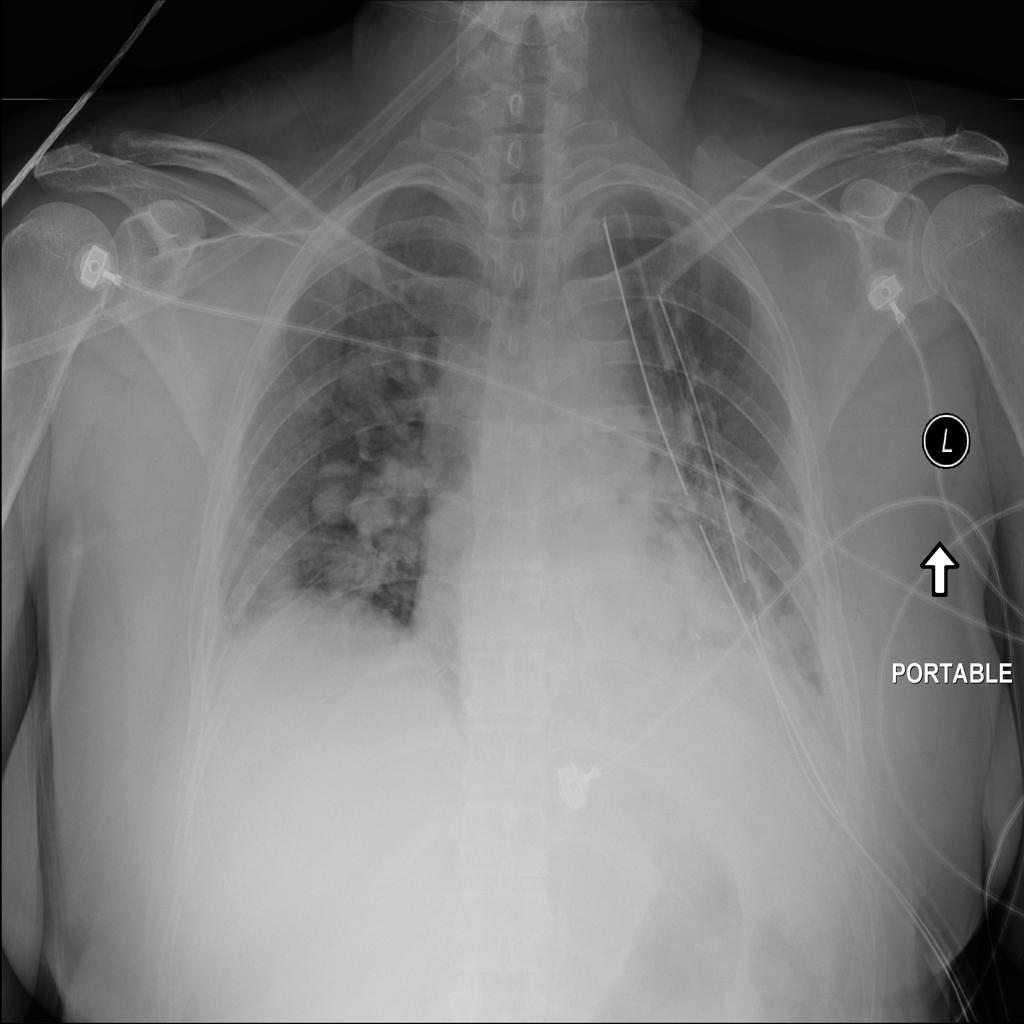nodule: (305, 452, 380, 535), (316, 532, 394, 601), (330, 342, 399, 418), (756, 597, 822, 674), (352, 489, 405, 537)
